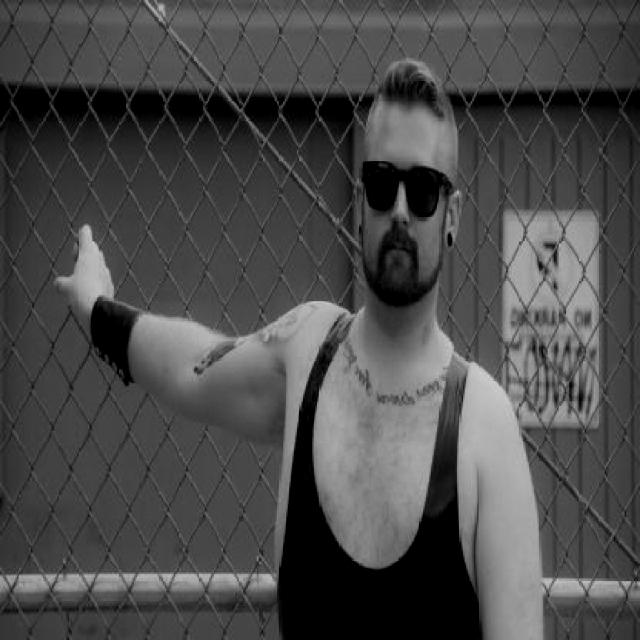face_nomask: (358, 154, 454, 280)
glasses: (358, 146, 460, 217)
hand_noglove: (44, 226, 124, 320)
head_nohelmet: (356, 53, 464, 145)
person: (240, 26, 525, 640)
